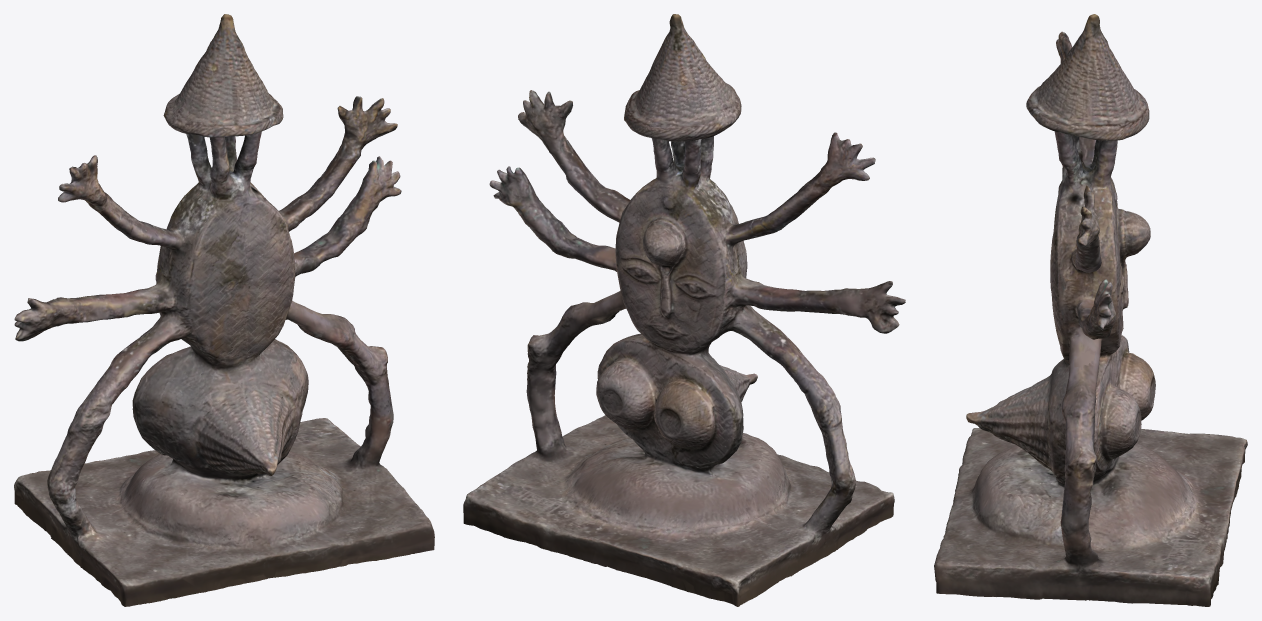
The model's file is parekh-bronze-2-1.glb.
3 views of the same model, side by side, from view 1: azimuth 30°, elevation 25°; view 2: azimuth 150°, elevation 25°; view 3: azimuth 270°, elevation 25° (orthographic).
Parts seen in each view (by area): view 1: Mesh; view 2: Mesh; view 3: Mesh.
Part boxes in pixels (bbox=[...]): Mesh: bbox=[14, 14, 434, 606]; Mesh: bbox=[463, 14, 905, 606]; Mesh: bbox=[934, 14, 1247, 606].
Bounding box in the file's own units: 40.11 × 48.55 × 26.82.
1 material, 1 textured.
